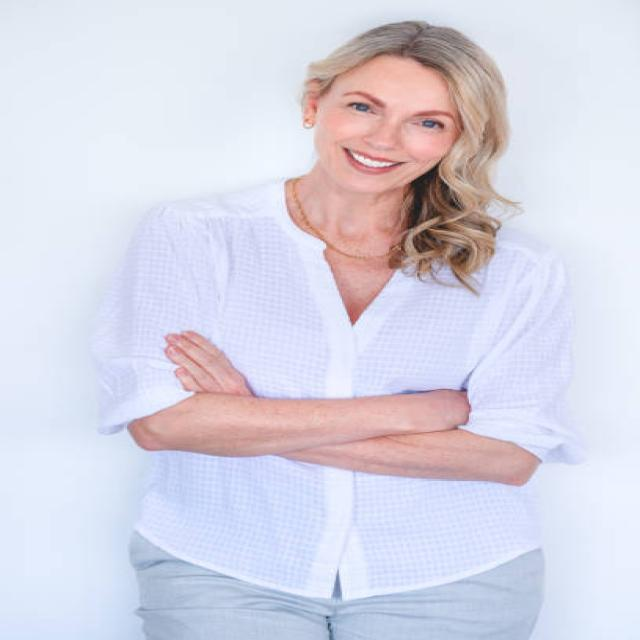Dry-Skin: (212, 396, 481, 478), (298, 190, 400, 239)
